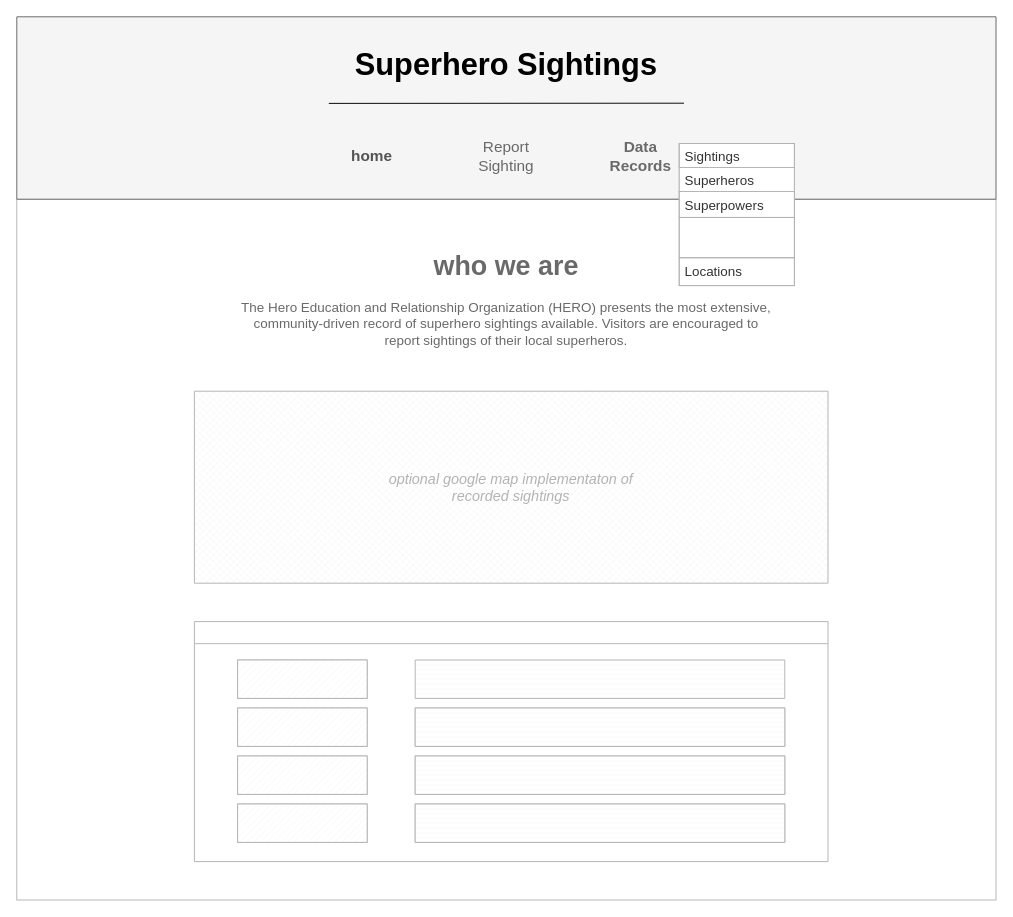
The diagram is 1013 pixels wide and 917 high, and some of its shapes have lost their labels. The shapes that lost their labels are listed below. From the top down, each one's box as (x1, y1, x2, y2) in pixels, then its label:
(678, 216, 794, 258): Superhero Organizations
(193, 621, 828, 862): Recent Sightings
